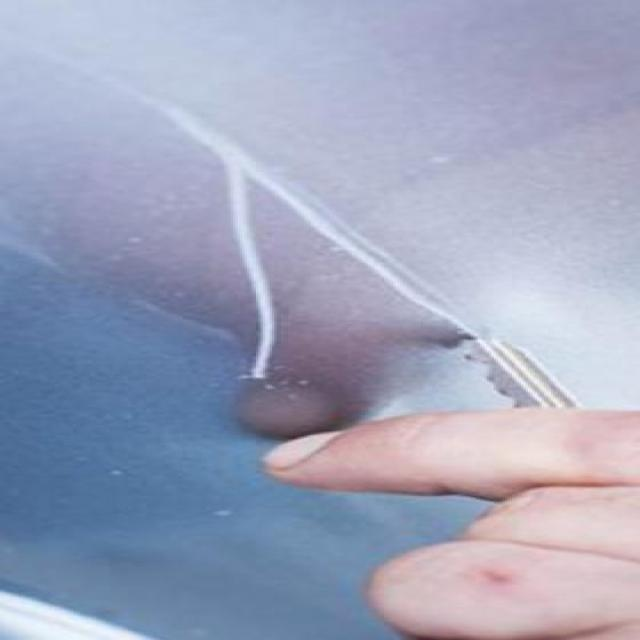scratch: (217, 125, 295, 402), (316, 176, 452, 325)
